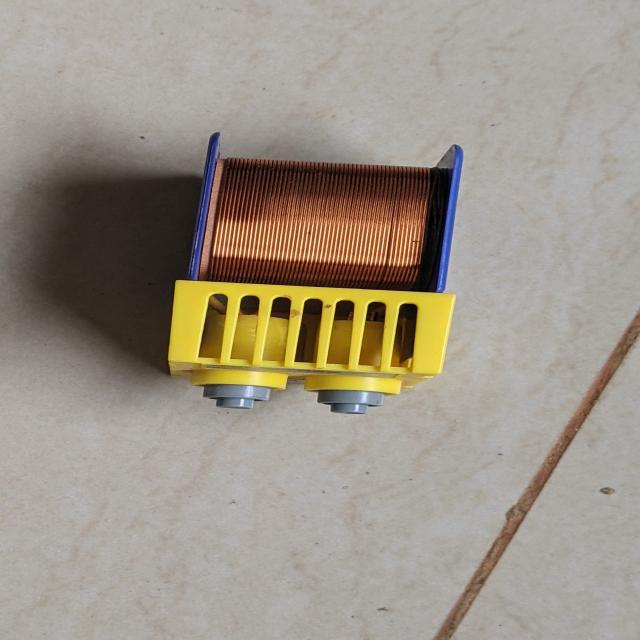Solenoid: (124, 128, 494, 421)
